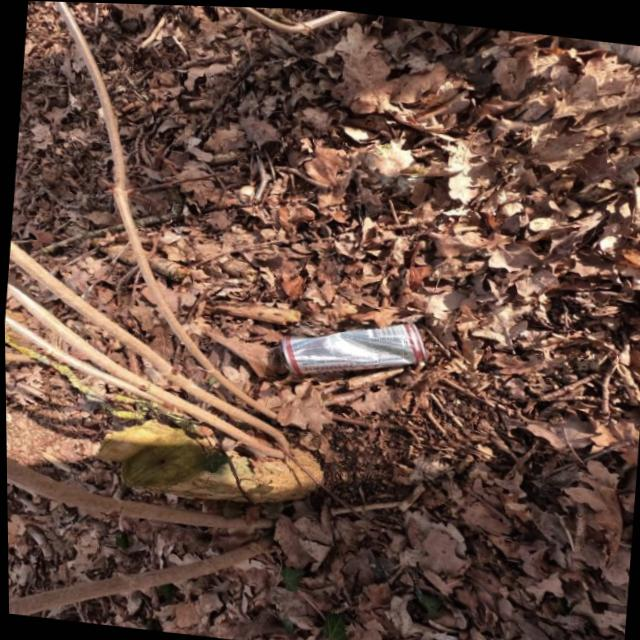Can-Metal: (272, 304, 430, 399)
